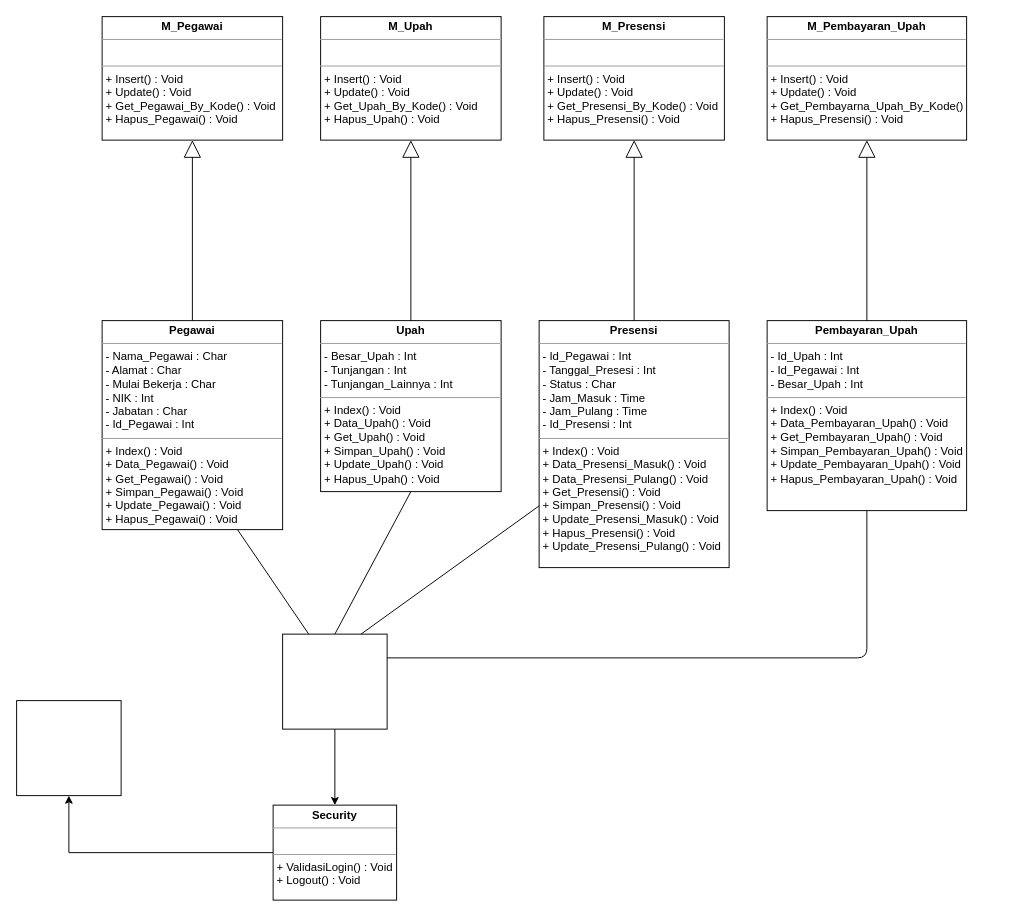
This 1011x917 diagram has some shape labels left out. The centre of each missing label's shape, as x and y in pixels:
"All_User - Username : Int - Password : Int - Role : Int" goes at pixel 68 748.
"Main + Index() : Void + Security() : Void" goes at pixel 334 681.
